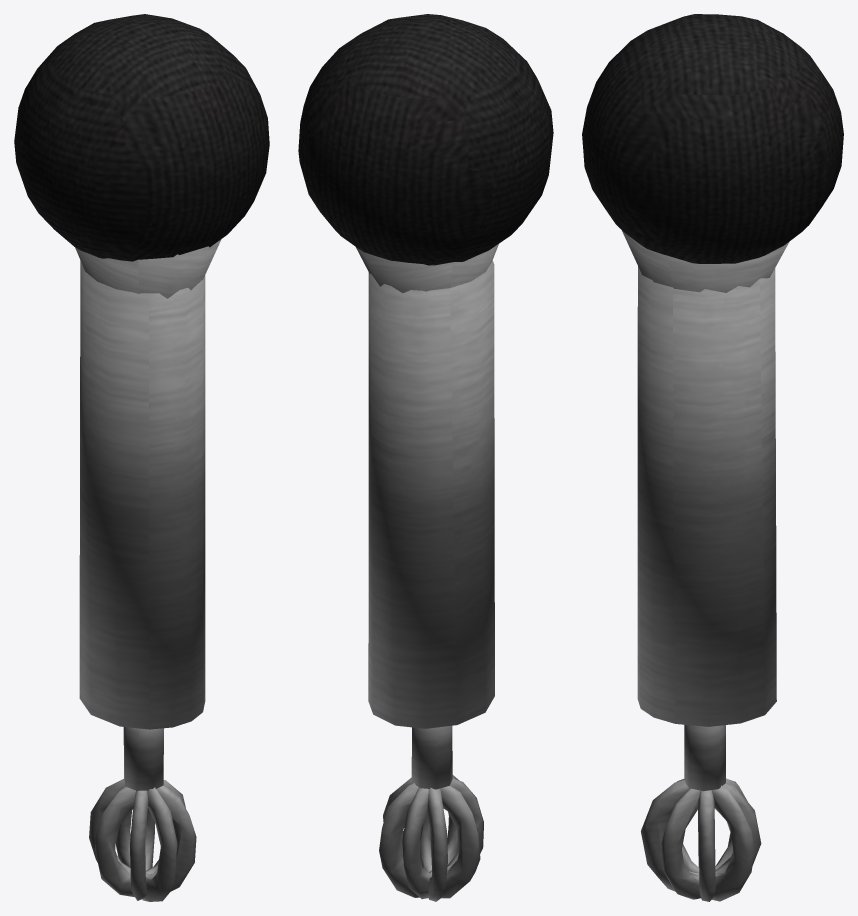
The model's file is mic 3.dae.
The picture shows the model from 3 angles, left to right: view 1: azimuth 30°, elevation 25°; view 2: azimuth 150°, elevation 25°; view 3: azimuth 270°, elevation 25°; orthographic projection.
Parts seen in each view (by area): view 1: Sphere; view 2: Sphere; view 3: Sphere.
Boxes of the visible parts, x1,y1,x2,y2 form: Sphere: (14, 14, 269, 901); Sphere: (298, 14, 553, 901); Sphere: (582, 14, 843, 901).
Size of the model in its own units: 0.2622 by 0.2683 by 0.9899.
